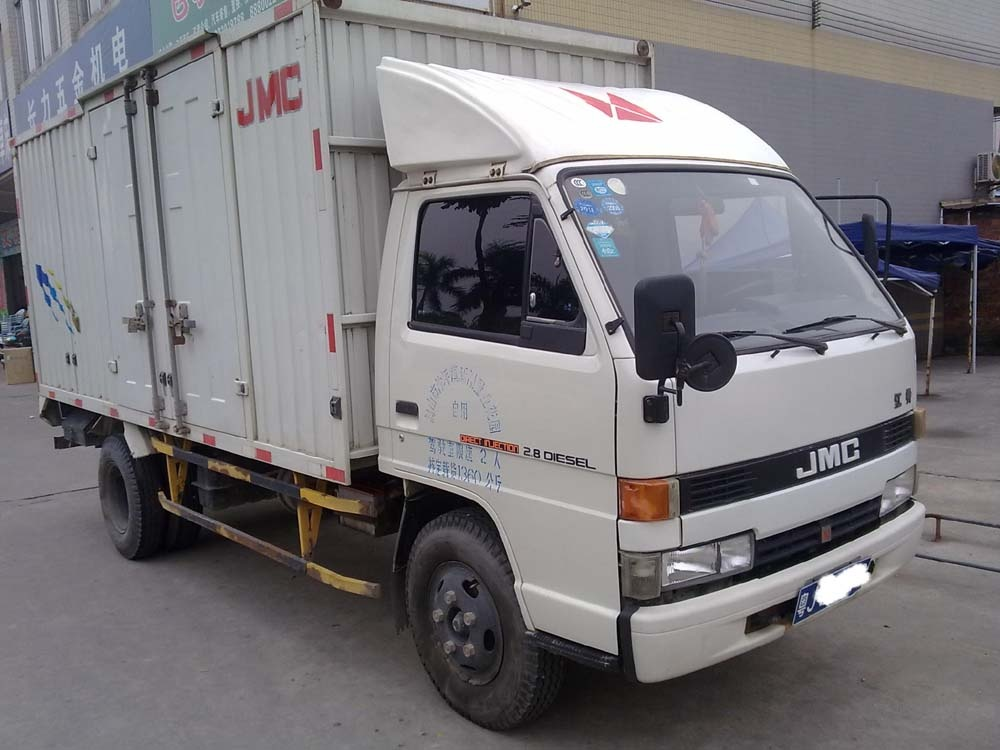truck: (11, 27, 932, 731)
